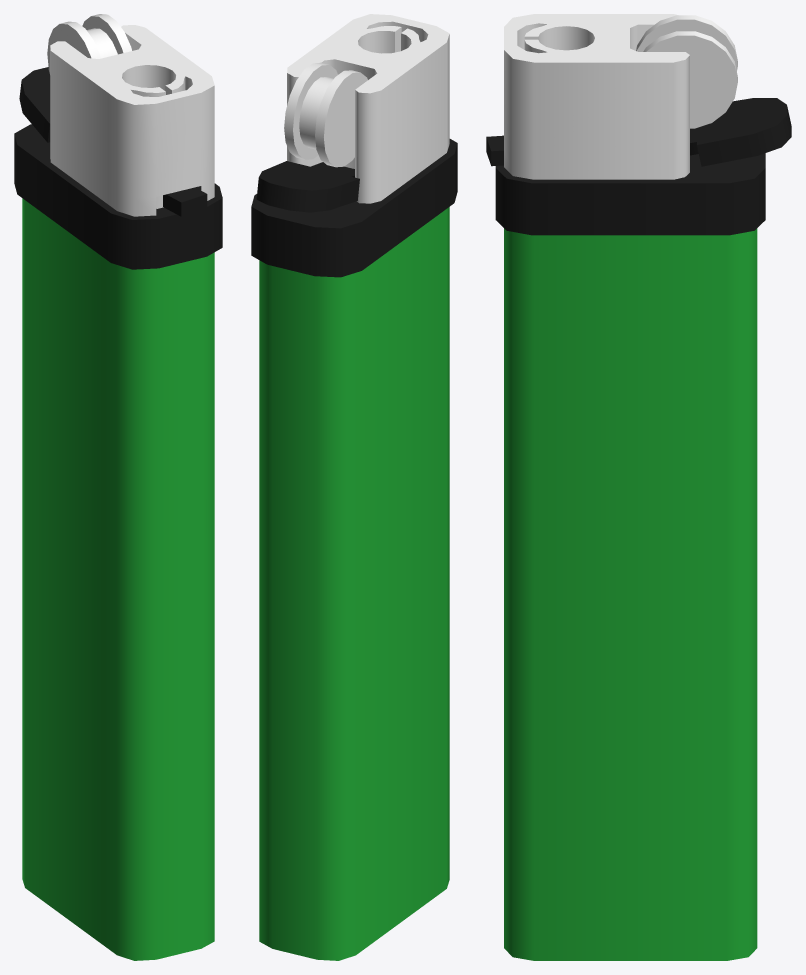
Rendered from Lighter.fbx.
3 renders of one model, left to right at view 1: azimuth 30°, elevation 25°; view 2: azimuth 150°, elevation 25°; view 3: azimuth 270°, elevation 25°, orthographic. The views are drawn at different scales.
Visible parts, largest first — view 1: Body, Wheel, Cam, Rivet; view 2: Body, Wheel, Cam; view 3: Body, Wheel, Cam.
Part boxes in pixels (x1=…): Body: x1=14, y1=25, x2=222, y2=960; Wheel: x1=47, y1=14, x2=131, y2=74; Cam: x1=19, y1=67, x2=50, y2=142; Rivet: x1=163, y1=187, x2=207, y2=216; Body: x1=251, y1=14, x2=457, y2=960; Wheel: x1=284, y1=62, x2=367, y2=167; Cam: x1=256, y1=161, x2=359, y2=212; Body: x1=495, y1=14, x2=765, y2=960; Wheel: x1=636, y1=15, x2=737, y2=128; Cam: x1=690, y1=98, x2=791, y2=166.
Bounding box in the file's own units: 1.15 × 8.75 × 2.66.
